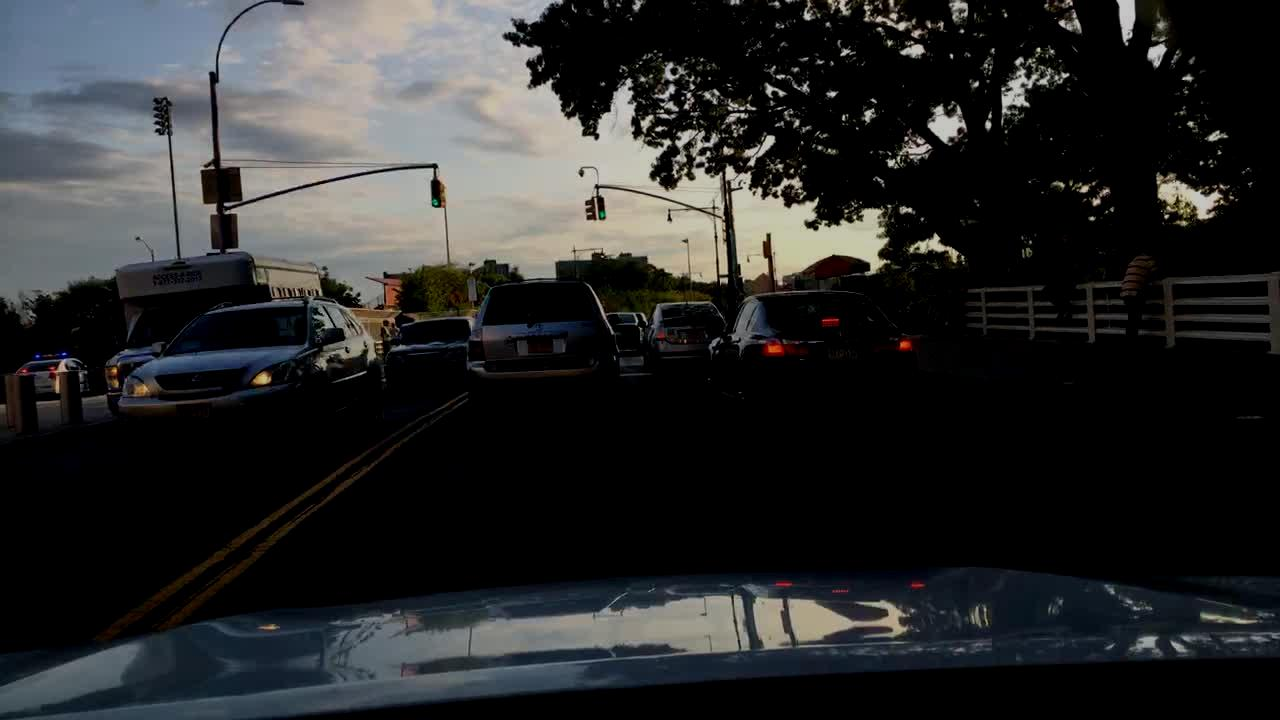lexus: (180, 367, 207, 389)
